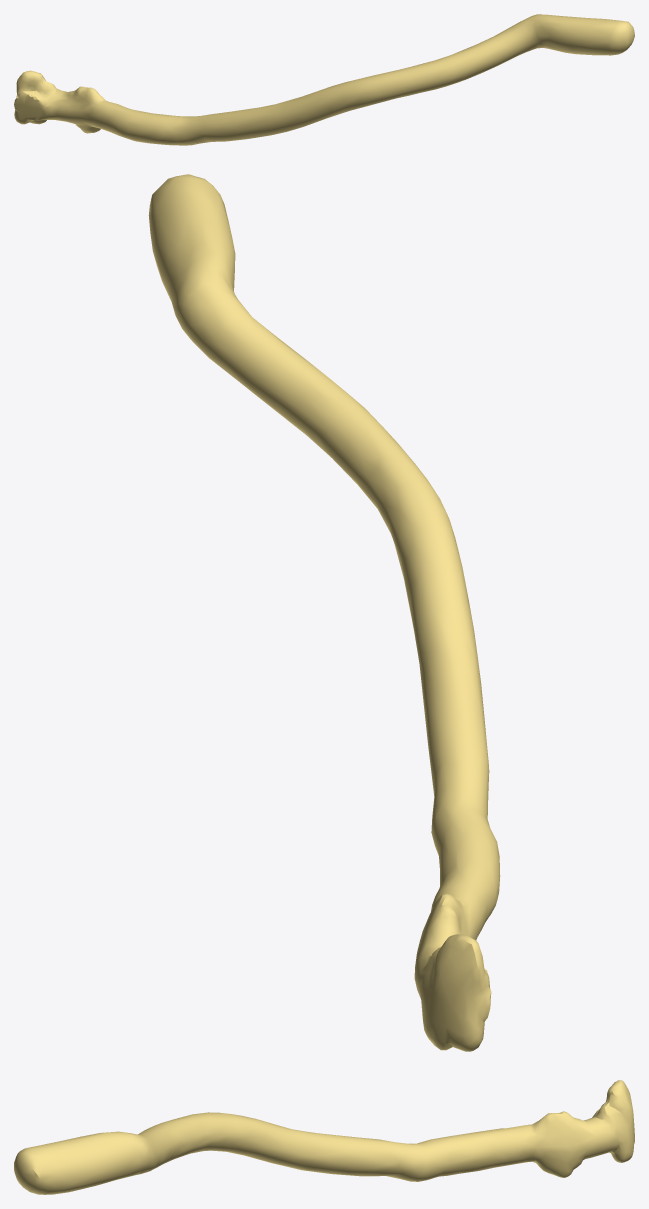
The model's file is fma53433_mm2619.glb.
The picture shows the model from 3 angles, top to bottom: view 1: azimuth 30°, elevation 25°; view 2: azimuth 150°, elevation 25°; view 3: azimuth 270°, elevation 25°; orthographic projection. The views are drawn at different scales.
Parts seen in each view (by area): view 1: FMA53433_MM2619; view 2: FMA53433_MM2619; view 3: FMA53433_MM2619.
Part boxes in pixels (box(x1,y1,x2,y2)): FMA53433_MM2619: box(14, 14, 634, 145); FMA53433_MM2619: box(148, 174, 500, 1051); FMA53433_MM2619: box(14, 1080, 634, 1194).
Bounding box in the file's own units: 0.0241 × 0.0106 × 0.0253.
